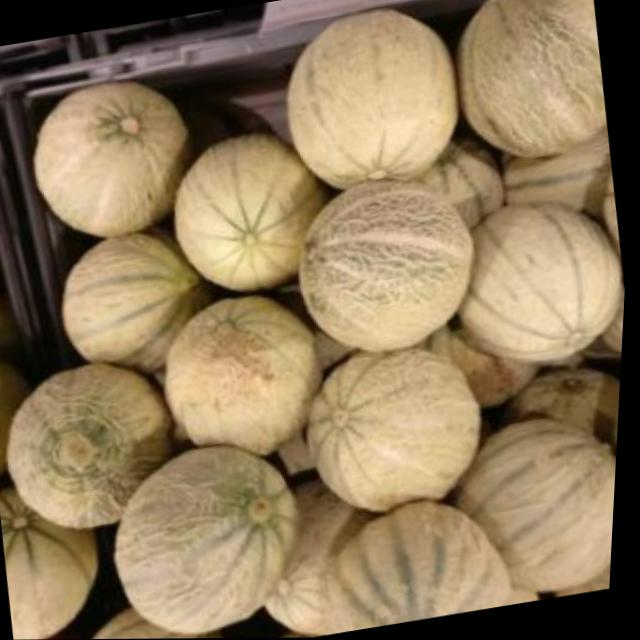Cantaloupe: (103, 432, 322, 639), (274, 0, 481, 194), (289, 171, 494, 365), (300, 336, 503, 522), (0, 355, 191, 539), (444, 193, 632, 378), (26, 71, 207, 244), (467, 405, 623, 603), (318, 488, 526, 635), (163, 126, 336, 300), (436, 0, 616, 165), (56, 223, 219, 382), (0, 474, 120, 640), (71, 598, 238, 639)
